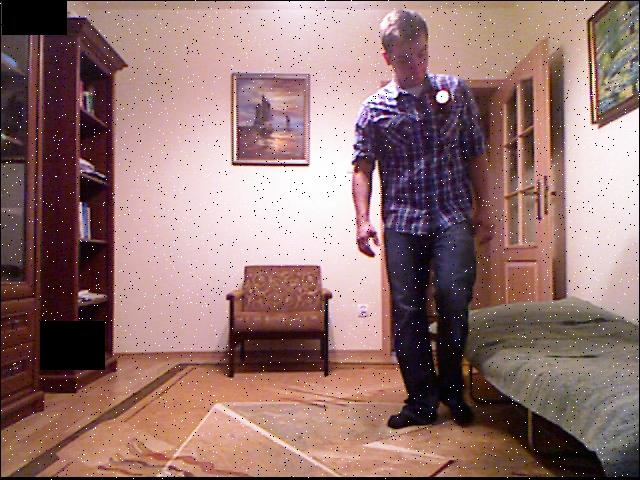walking: (345, 14, 498, 432)
